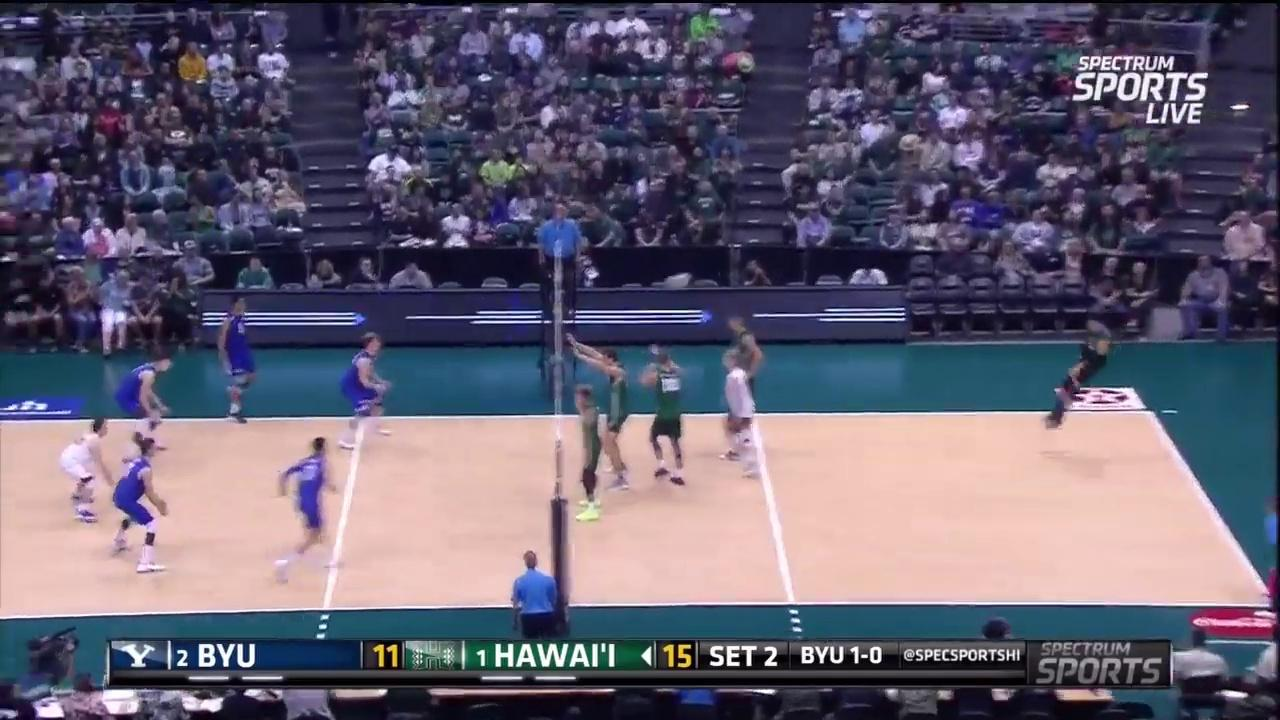player: (273, 439, 341, 587), (582, 339, 640, 497), (109, 432, 172, 574), (1042, 313, 1115, 429), (716, 346, 774, 481), (115, 344, 184, 453), (711, 309, 766, 441), (640, 342, 687, 486), (573, 386, 616, 531), (344, 334, 395, 450), (65, 425, 116, 523), (224, 299, 260, 421)
refree: (503, 550, 563, 646), (536, 198, 583, 318), (1265, 494, 1280, 606)
